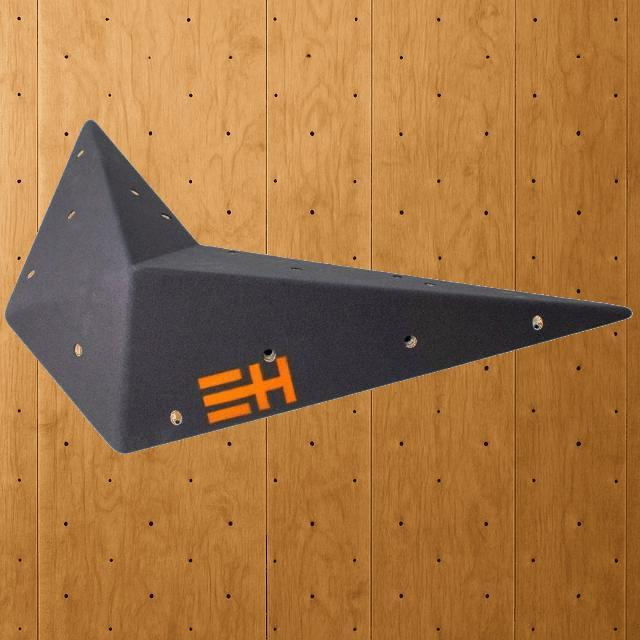Volume: (4, 118, 632, 454)
